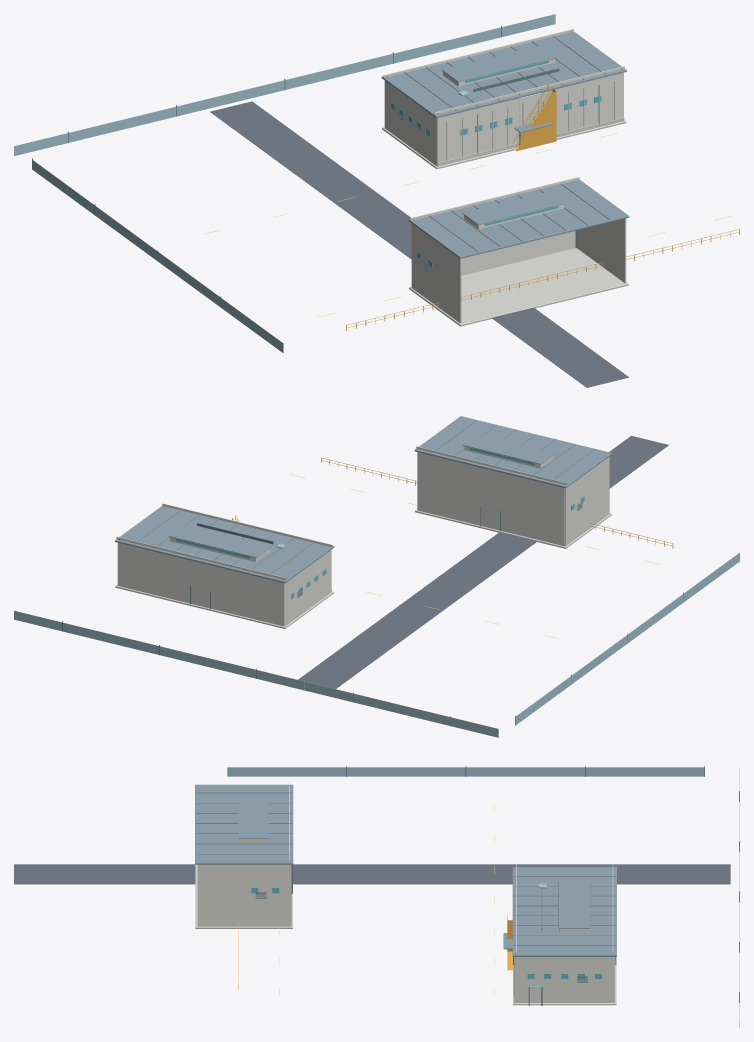
3 renders of one model, top to bottom at view 1: azimuth 30°, elevation 25°; view 2: azimuth 150°, elevation 25°; view 3: azimuth 270°, elevation 25°, orthographic. The views are drawn at different scales.
Visible parts, largest first — view 1: render-batch-7, render-batch-3, render-batch-1, render-batch-5, render-batch-4, render-batch-8, render-batch-0, render-batch-2; view 2: render-batch-7, render-batch-3, render-batch-1, render-batch-4, render-batch-5, render-batch-2, render-batch-0; view 3: render-batch-3, render-batch-1, render-batch-7, render-batch-4, render-batch-5, render-batch-2.
Boxes of the visible parts, x1,y1,x2,y2 form: render-batch-7: [383, 29, 626, 323]; render-batch-3: [381, 31, 629, 258]; render-batch-1: [210, 101, 628, 387]; render-batch-5: [382, 80, 628, 326]; render-batch-4: [14, 14, 555, 353]; render-batch-8: [346, 84, 739, 330]; render-batch-0: [391, 60, 601, 267]; render-batch-2: [32, 26, 622, 307]; render-batch-7: [116, 446, 609, 626]; render-batch-3: [115, 416, 612, 583]; render-batch-1: [298, 435, 668, 688]; render-batch-4: [14, 543, 739, 737]; render-batch-5: [115, 509, 611, 628]; render-batch-2: [62, 448, 683, 726]; render-batch-0: [175, 447, 584, 599]; render-batch-3: [195, 784, 616, 956]; render-batch-1: [14, 864, 730, 884]; render-batch-7: [197, 782, 614, 1002]; render-batch-4: [227, 767, 739, 1027]; render-batch-5: [195, 864, 616, 1005]; render-batch-2: [255, 766, 739, 1005].
Size of the model in its own units: 102 by 13.65 by 125.
